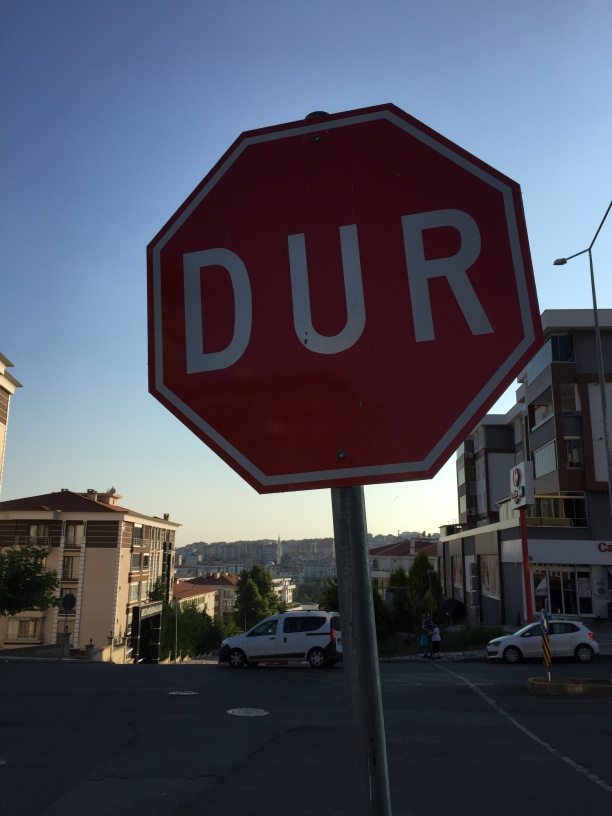arac_dur_isareti: (121, 36, 570, 636)
